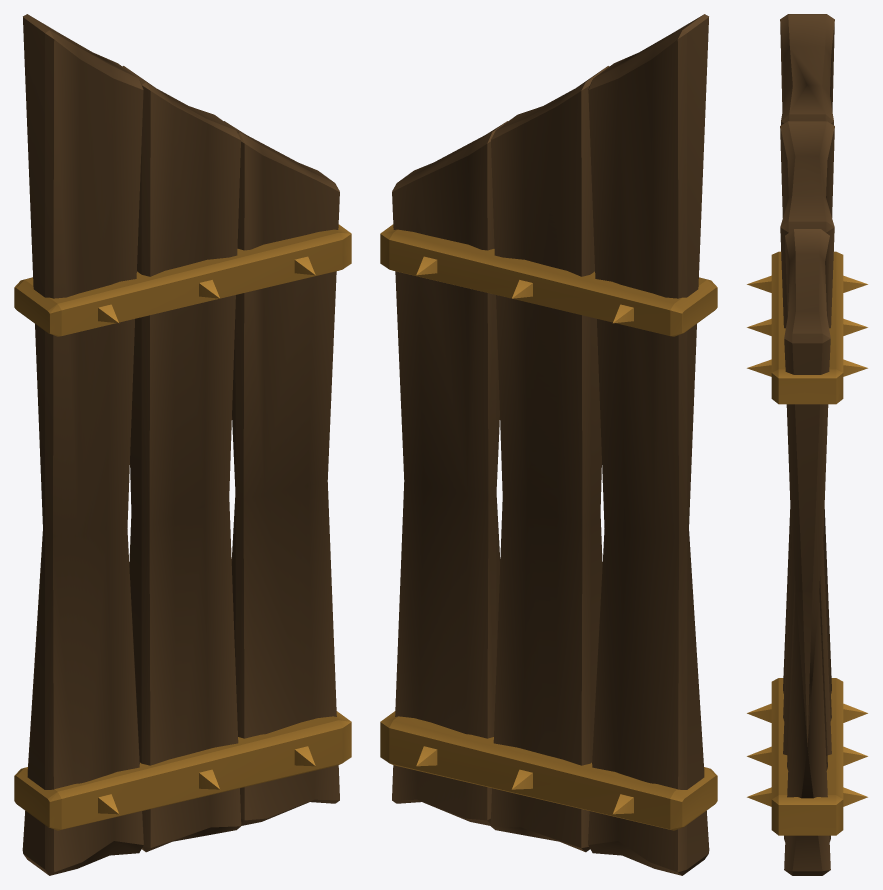
Rendered from obj_woodenDoor_right_LOW.FBX.
3 renders of one model, left to right at view 1: azimuth 30°, elevation 25°; view 2: azimuth 150°, elevation 25°; view 3: azimuth 270°, elevation 25°, orthographic. The views are drawn at different scales.
Visible parts, largest first — view 1: obj_woodenDoor_right_LOW; view 2: obj_woodenDoor_right_LOW; view 3: obj_woodenDoor_right_LOW.
Part boxes in pixels (<box>): obj_woodenDoor_right_LOW: <box>14,14,351,875</box>; obj_woodenDoor_right_LOW: <box>380,14,717,875</box>; obj_woodenDoor_right_LOW: <box>747,14,867,875</box>.
Size of the model in its own units: 1.75 by 4.67 by 0.6989.
